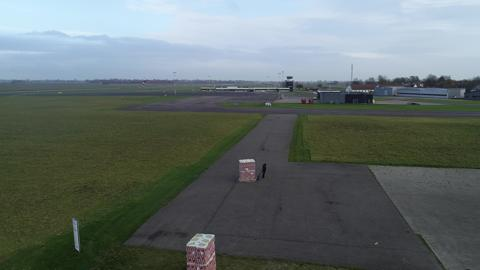RockwoolPallet: (239, 157, 256, 179)
